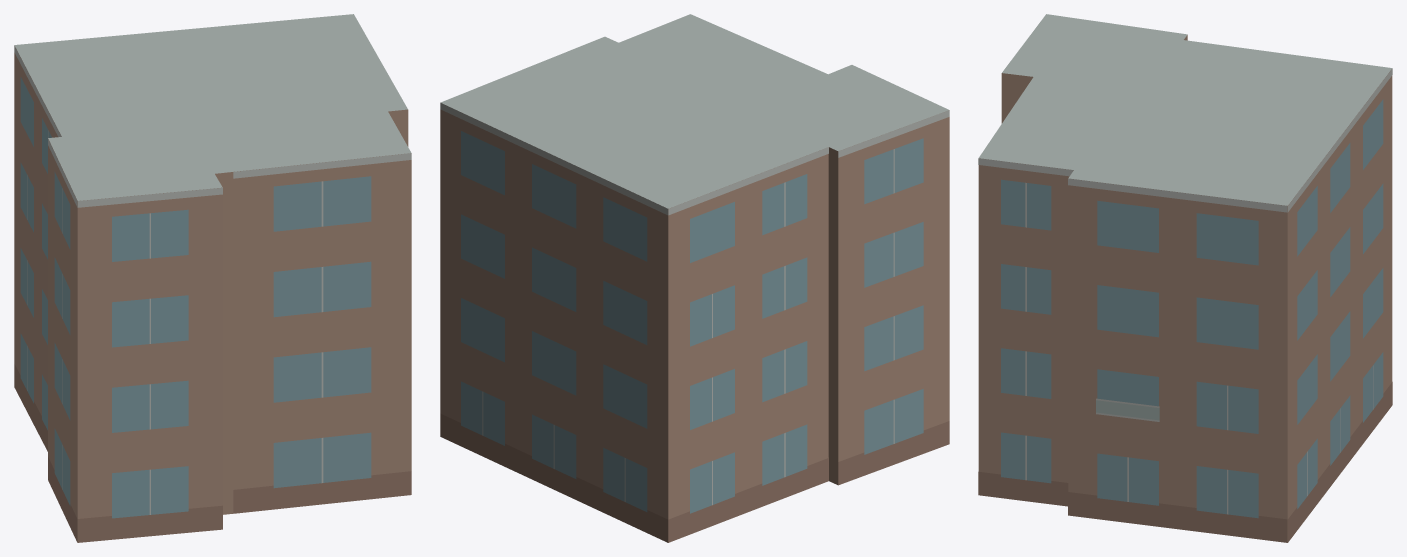
Rendered from survey-upis-32917876.glb.
The picture shows the model from 3 angles, left to right: view 1: azimuth 30°, elevation 25°; view 2: azimuth 150°, elevation 25°; view 3: azimuth 270°, elevation 25°; orthographic projection. The views are drawn at different scales.
Parts seen in each view (by area): view 1: survey-upis-32917876.tmp; view 2: survey-upis-32917876.tmp; view 3: survey-upis-32917876.tmp.
Part boxes in pixels (x1,y1,x2,y2): survey-upis-32917876.tmp: (14,14,411,542); survey-upis-32917876.tmp: (440,14,949,542); survey-upis-32917876.tmp: (978,14,1392,542).
Size of the model in its own units: 14.84 by 12.15 by 13.54.
